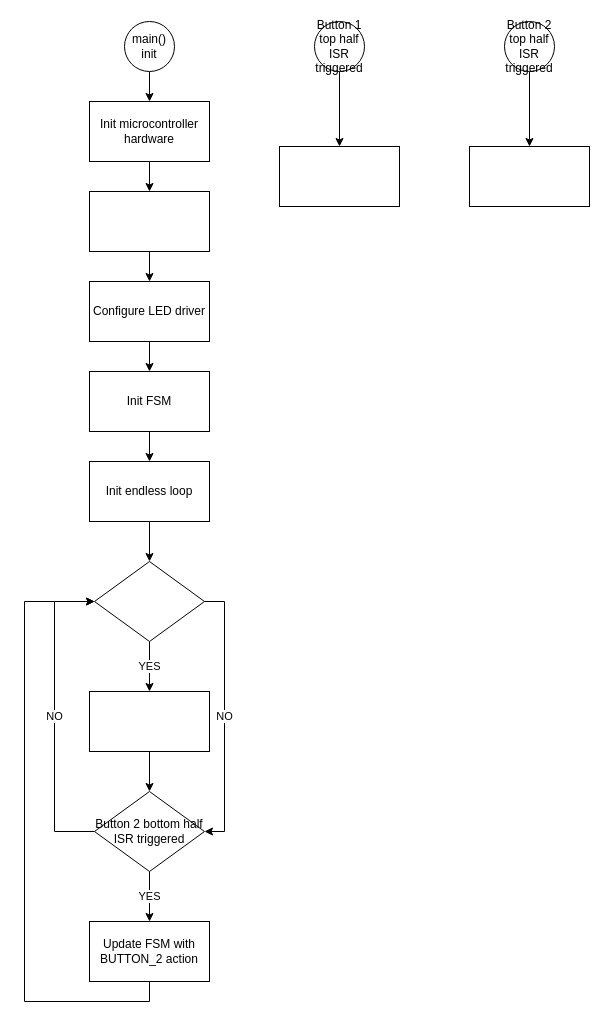
Image size: 607x1027. Some labels were removed from this diagram. Each missing label, with the box of its shape:
Button 1 bottom half ISR triggered: (94, 560, 204, 642)
Configure button top half ISR: (88, 190, 210, 252)
Trigger Button 1 bottom half ISR: (278, 146, 400, 206)
Trigger Button 2 bottom half ISR: (468, 146, 590, 206)
Update FSM with BUTTON_1 action: (88, 690, 210, 752)
